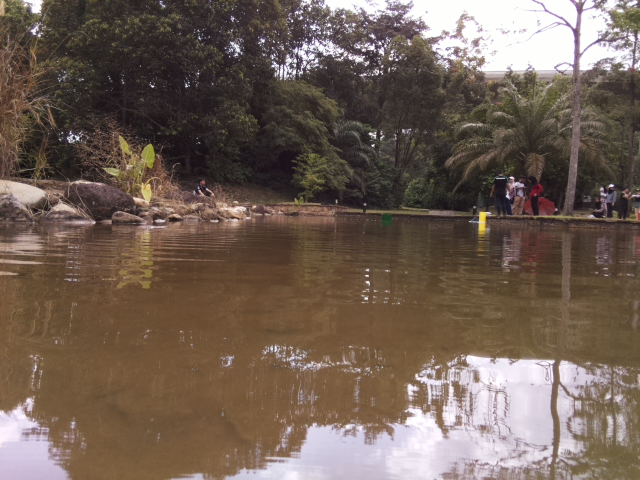obstacle: (380, 212, 393, 222)
